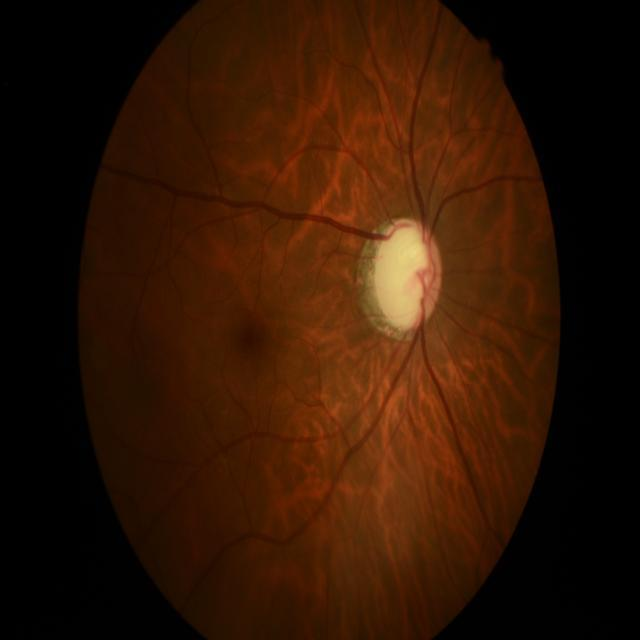cup: (382, 227, 436, 326)
disk: (373, 216, 442, 332)
